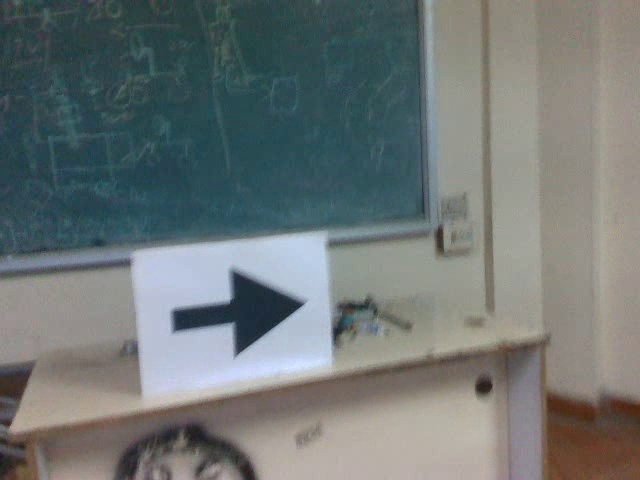Right: (163, 261, 313, 360)
